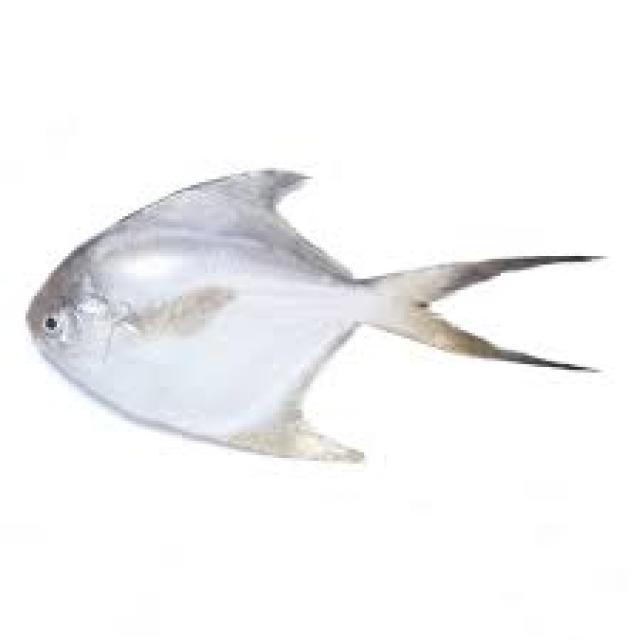pomfred: (24, 171, 612, 462)
